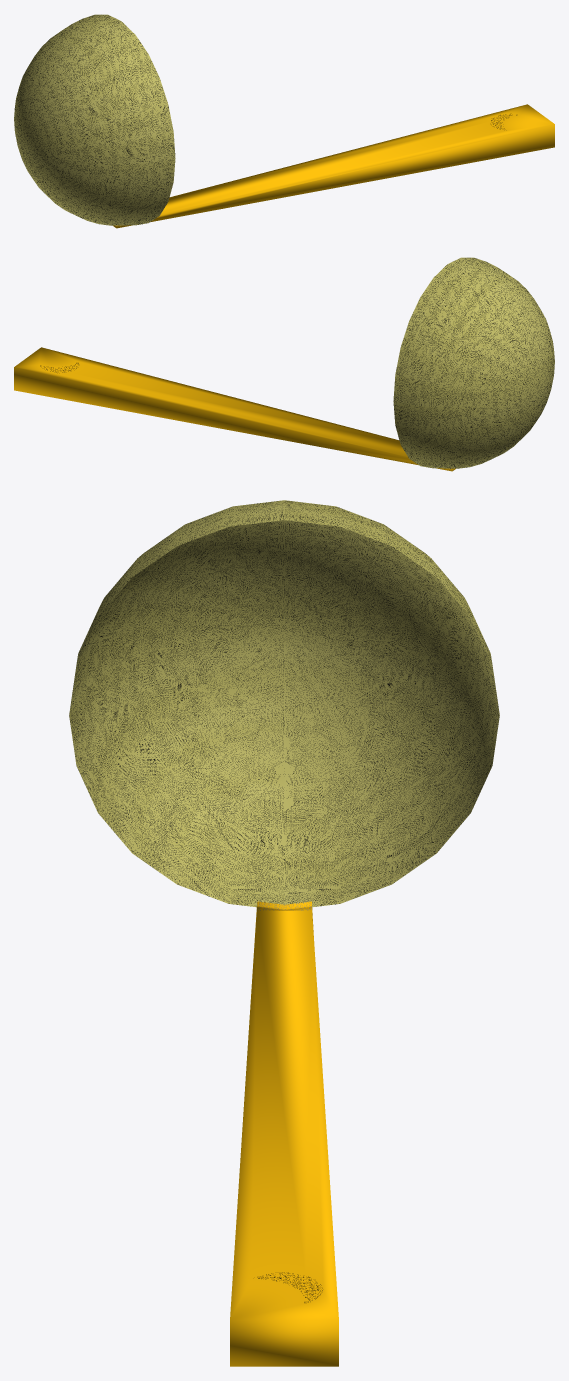
The model's file is ladle_02_origin_gt_1.dae.
3 views of the same model, one above another, from view 1: azimuth 30°, elevation 25°; view 2: azimuth 150°, elevation 25°; view 3: azimuth 270°, elevation 25° (orthographic). The views are drawn at different scales.
Parts seen in each view (by area): view 1: lado (×2); view 2: lado (×2); view 3: lado (×2).
Boxes of the visible parts, x1,y1,x2,y2 form: lado (×2): (14, 14, 554, 228); lado (×2): (14, 257, 554, 471); lado (×2): (69, 500, 499, 1366).
Bounding box in the file's own units: 6.66 × 2.42 × 2.71.
Materials: 4 (2 with a texture image).
